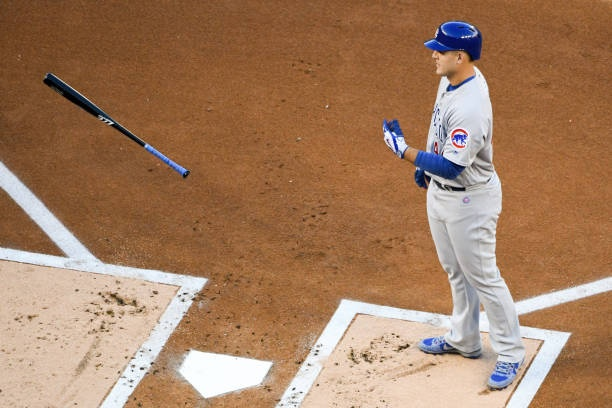bita: (42, 71, 192, 177)
